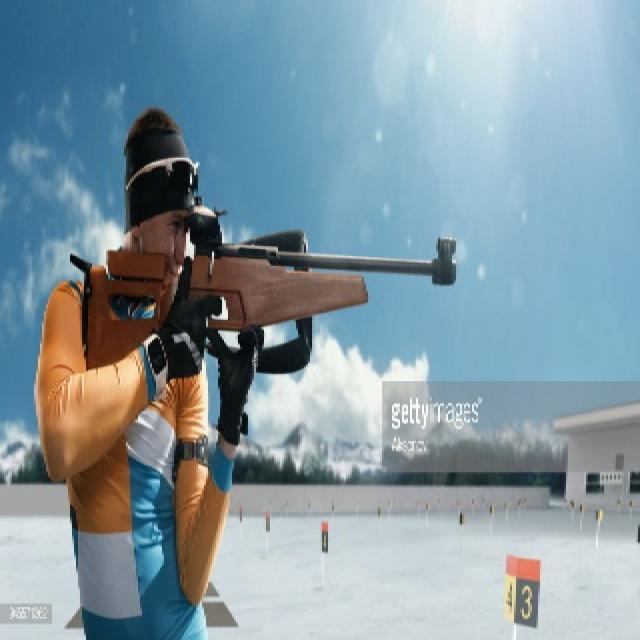weapon: (74, 224, 470, 382)
